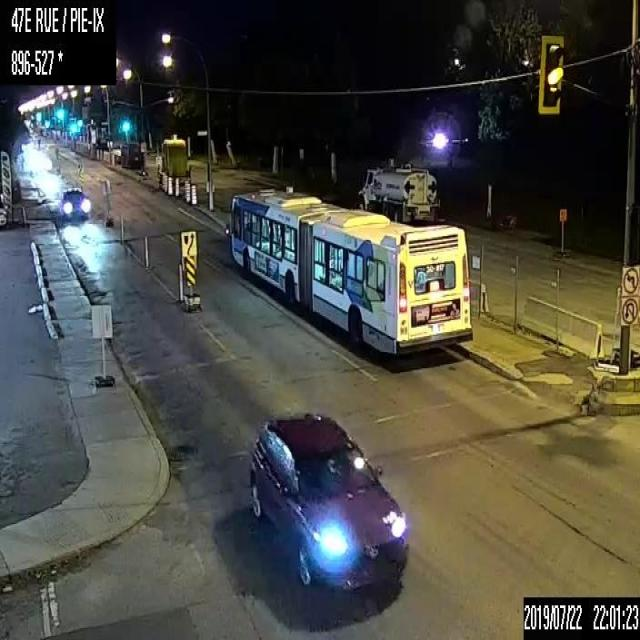bus: (224, 183, 476, 361)
construction: (177, 264, 184, 300), (144, 235, 148, 269), (183, 180, 189, 201), (190, 184, 196, 204), (119, 221, 123, 244), (167, 176, 172, 194), (162, 172, 166, 191), (175, 177, 179, 196)
vehicle: (247, 405, 408, 592), (357, 158, 439, 225), (59, 184, 91, 221)
